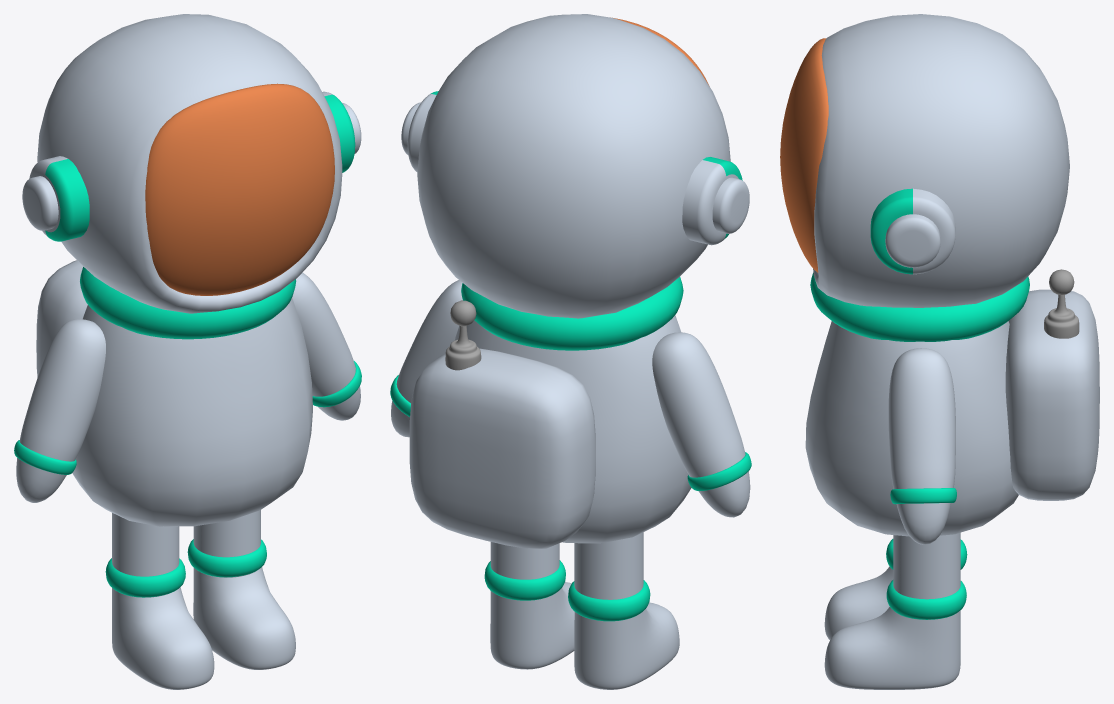
File: astronaut.glb
3 views of the same model, side by side, from view 1: azimuth 30°, elevation 25°; view 2: azimuth 150°, elevation 25°; view 3: azimuth 270°, elevation 25° (orthographic). The views are drawn at different scales.
Parts seen in each view (by area): view 1: Cube.002, Cube, Cube.001, Cube.004, Cube.003, Cube.010, Torus.001, Cube.007, Cube.011, Cylinder.003, Cylinder.002, Cube.006 (+4 smaller); view 2: Cube, Cube.011, Cube.002, Cube.004, Cube.010, Cube.003, Torus.001, Cylinder.002, Cube.007, Cube.006, Cube.005, Cylinder (+2 smaller); view 3: Cube, Cube.002, Cube.011, Cube.003, Cube.007, Cube.001, Torus.001, Cylinder.001, Cube.004, Cylinder.004, Cube.005, Cylinder (+1 smaller).
Boxes of the visible parts, bbox=[...] form: Cube.002: bbox=[72, 298, 312, 526]; Cube: bbox=[37, 14, 342, 313]; Cube.001: bbox=[145, 83, 334, 295]; Cube.004: bbox=[112, 513, 214, 689]; Cube.003: bbox=[193, 510, 295, 669]; Cube.010: bbox=[16, 319, 105, 502]; Torus.001: bbox=[80, 267, 296, 339]; Cube.007: bbox=[292, 272, 360, 420]; Cube.011: bbox=[36, 260, 87, 377]; Cylinder.003: bbox=[45, 159, 89, 241]; Cylinder.002: bbox=[22, 156, 67, 236]; Cube.006: bbox=[105, 558, 185, 597]; Cube: bbox=[417, 14, 730, 318]; Cube.011: bbox=[409, 348, 595, 548]; Cube.002: bbox=[455, 315, 691, 543]; Cube.004: bbox=[574, 532, 679, 689]; Cube.010: bbox=[652, 332, 750, 517]; Cube.003: bbox=[490, 542, 574, 669]; Torus.001: bbox=[461, 277, 683, 350]; Cylinder.002: bbox=[682, 160, 749, 245]; Cube.007: bbox=[391, 280, 462, 437]; Cube.006: bbox=[568, 580, 650, 621]; Cube.005: bbox=[484, 560, 565, 600]; Cylinder: bbox=[445, 300, 481, 370]; Cube: bbox=[813, 14, 1069, 307]; Cube.002: bbox=[805, 321, 1018, 536]; Cube.011: bbox=[1005, 289, 1099, 500]; Cube.003: bbox=[824, 532, 960, 689]; Cube.007: bbox=[888, 348, 955, 544]; Cube.001: bbox=[780, 38, 828, 272]; Torus.001: bbox=[810, 273, 1029, 341]; Cylinder.001: bbox=[885, 188, 955, 274]; Cube.004: bbox=[824, 566, 893, 639]; Cylinder.004: bbox=[870, 188, 912, 274]; Cube.005: bbox=[886, 580, 966, 619]; Cylinder: bbox=[1044, 269, 1079, 338].
Size of the model in its own units: 1.34 by 2.32 by 1.07.
